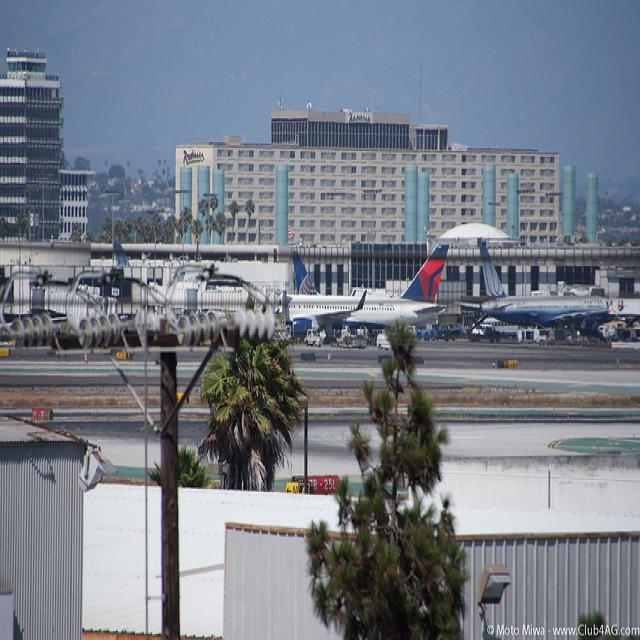Vehicle: (436, 322, 461, 342), (304, 328, 324, 348), (376, 334, 392, 352)
